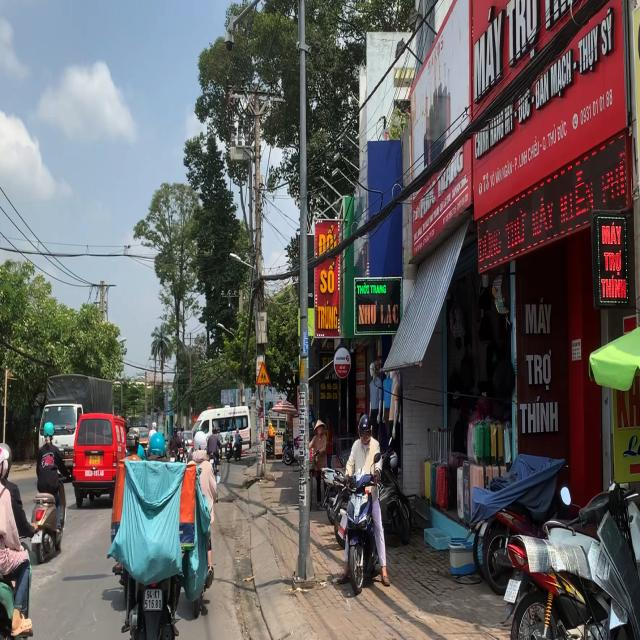Nguy hiem: (254, 359, 272, 387)
